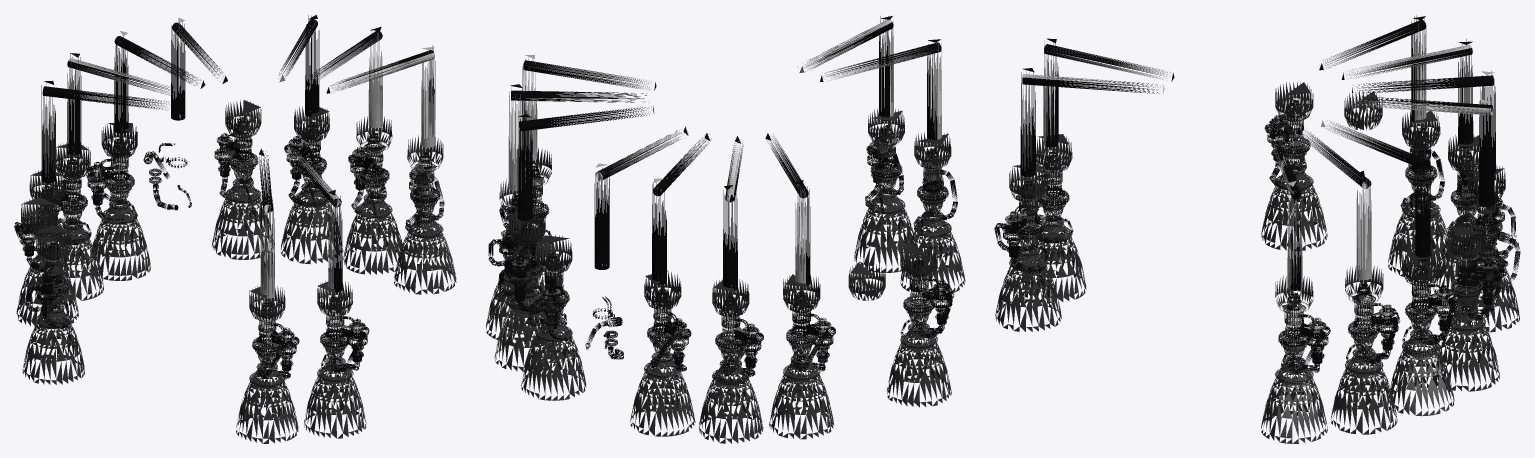
File: ESP-Starship-Part-001.obj
The picture shows the model from 3 angles, left to right: view 1: azimuth 30°, elevation 25°; view 2: azimuth 150°, elevation 25°; view 3: azimuth 270°, elevation 25°; orthographic projection. The views are drawn at different scales.
Parts seen in each view (by area): view 1: Booster__Superheavy_Block_3_V4_Cylinder.025; view 2: Booster__Superheavy_Block_3_V4_Cylinder.025; view 3: Booster__Superheavy_Block_3_V4_Cylinder.025.
Boxes of the visible parts, x1,y1,x2,y2 form: Booster__Superheavy_Block_3_V4_Cylinder.025: (14, 14, 456, 443); Booster__Superheavy_Block_3_V4_Cylinder.025: (486, 16, 965, 443); Booster__Superheavy_Block_3_V4_Cylinder.025: (994, 15, 1520, 443).
Size of the model in its own units: 9.7 by 5.05 by 9.73.
Materials: 1 (1 with a texture image).
